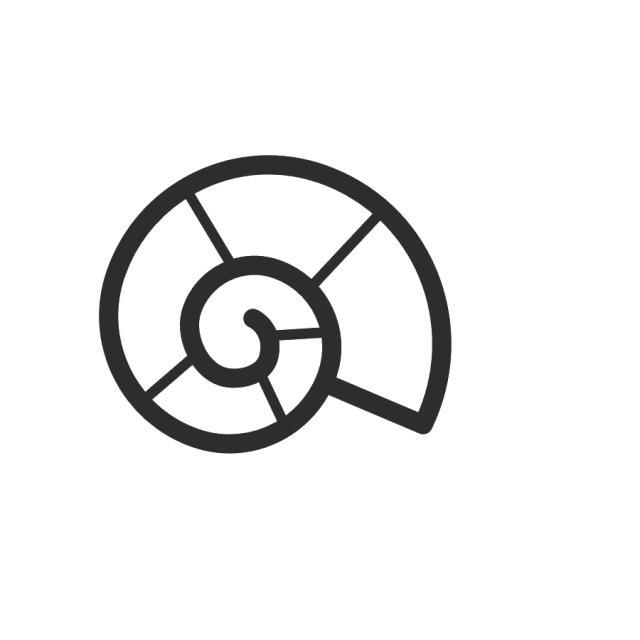fossil: (94, 151, 459, 461)
